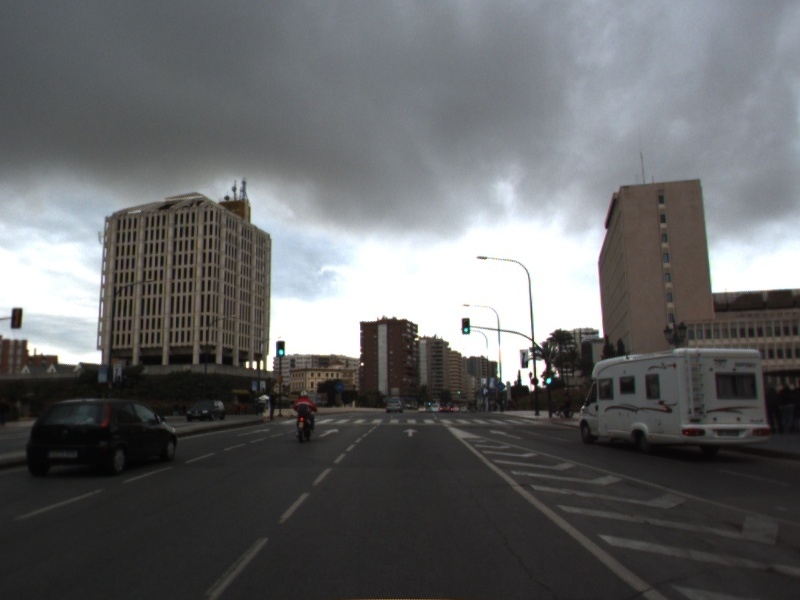STRAIGHT: (487, 427, 525, 442), (234, 425, 273, 438), (316, 426, 342, 439), (400, 426, 420, 439)
